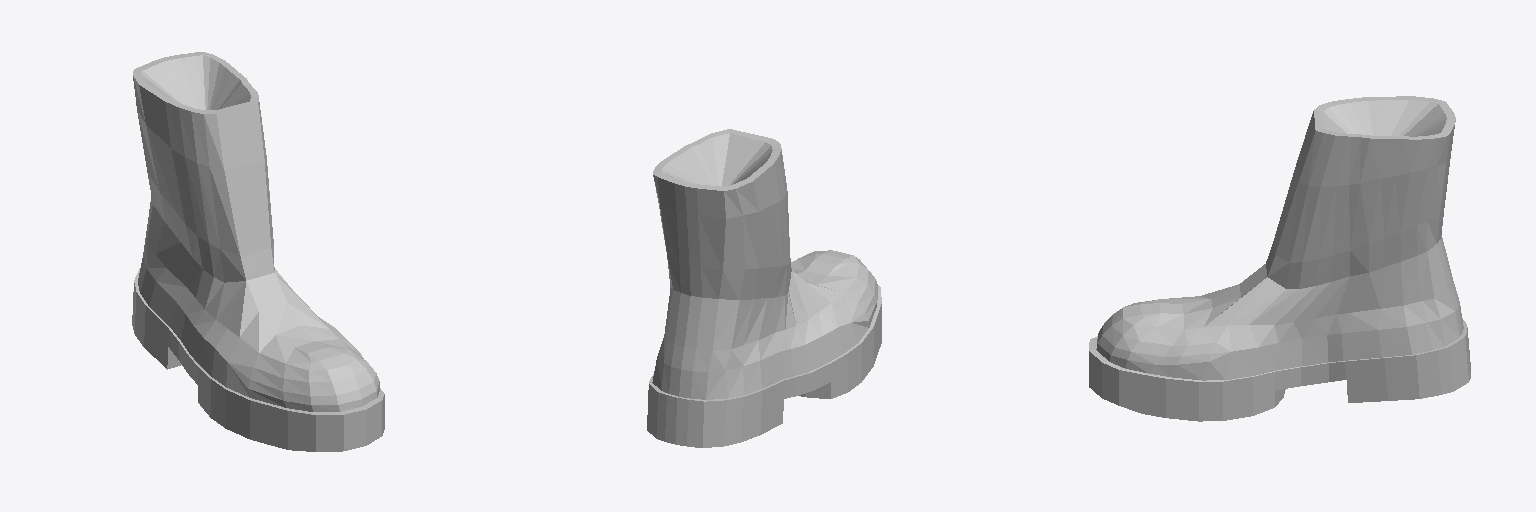
The model's file is VeryLowPolyBoot.obj.
The picture shows the model from 3 angles: view 1: azimuth 30°, elevation 25°; view 2: azimuth 150°, elevation 25°; view 3: azimuth 270°, elevation 25°; orthographic projection.
Visible parts, largest first — view 1: Boot_LOW_Plane:008_Boot_LOW_Plane:008; view 2: Boot_LOW_Plane:008_Boot_LOW_Plane:008; view 3: Boot_LOW_Plane:008_Boot_LOW_Plane:008.
Part boxes in pixels (bbox=[...]): Boot_LOW_Plane:008_Boot_LOW_Plane:008: bbox=[132, 52, 384, 451]; Boot_LOW_Plane:008_Boot_LOW_Plane:008: bbox=[647, 129, 881, 447]; Boot_LOW_Plane:008_Boot_LOW_Plane:008: bbox=[1089, 96, 1470, 421].
Bounding box in the file's own units: 3.57 × 7.37 × 9.42.